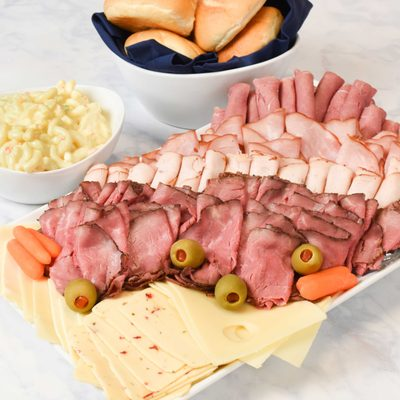sushi: (93, 1, 314, 132), (0, 79, 126, 205)
